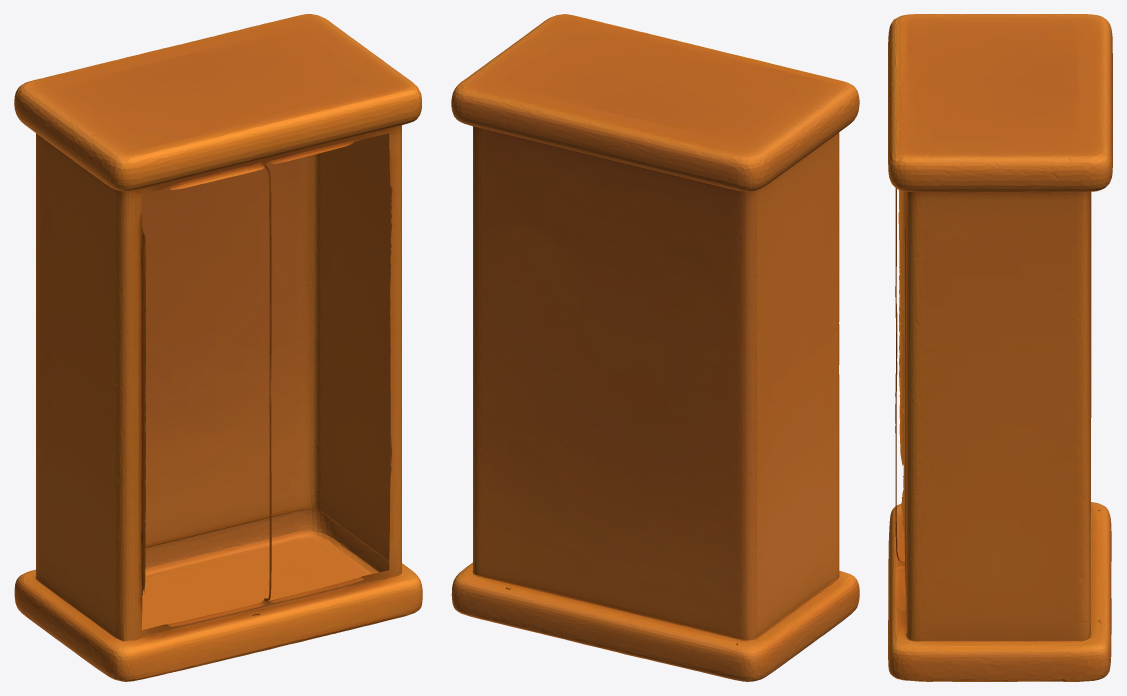
Rendered from body.glb.
3 renders of one model, left to right at view 1: azimuth 30°, elevation 25°; view 2: azimuth 150°, elevation 25°; view 3: azimuth 270°, elevation 25°, orthographic.
Visible parts, largest first — view 1: source_surface_0; view 2: source_surface_0; view 3: source_surface_0.
Part boxes in pixels (x1,y1,x2,y2): source_surface_0: (14,14,422,681); source_surface_0: (451,14,859,681); source_surface_0: (888,14,1112,681).
Size of the model in its own units: 0.1001 by 0.16 by 0.0624.
1 material, 1 textured.
